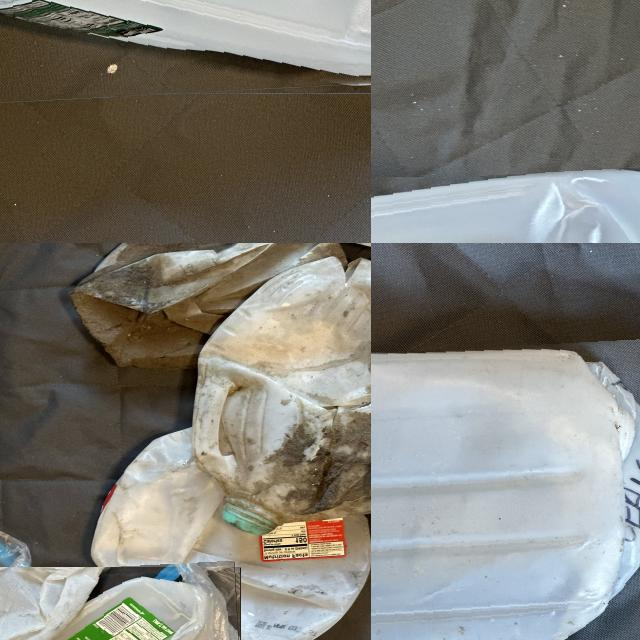milk-jug: (371, 345, 640, 640), (106, 410, 371, 640), (200, 260, 371, 524), (0, 0, 371, 102), (68, 243, 352, 373), (371, 169, 640, 243), (0, 564, 242, 640)
